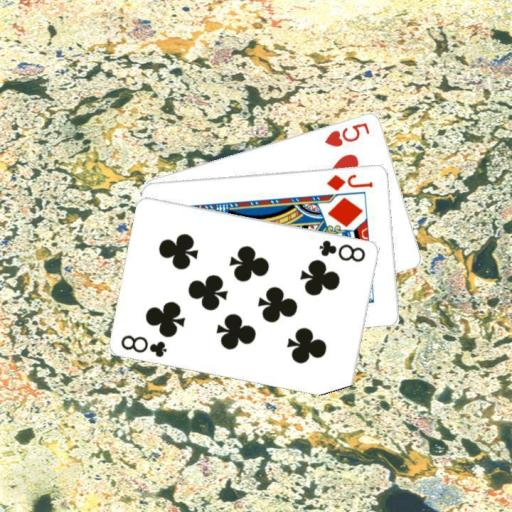card-corner: (321, 119, 372, 148), (316, 236, 368, 264), (118, 332, 169, 358), (324, 171, 374, 192)
